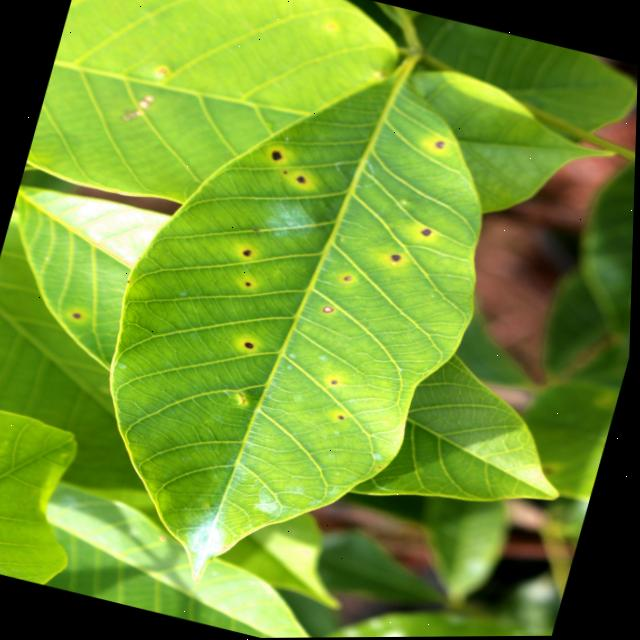Colletotrichum: (269, 151, 283, 162), (244, 341, 255, 350), (421, 228, 431, 237), (323, 306, 334, 314), (391, 254, 401, 262)
